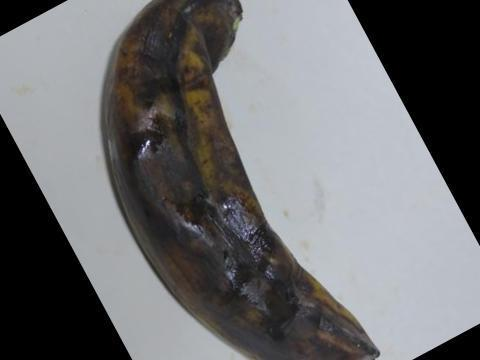rotten: (86, 0, 393, 359)
